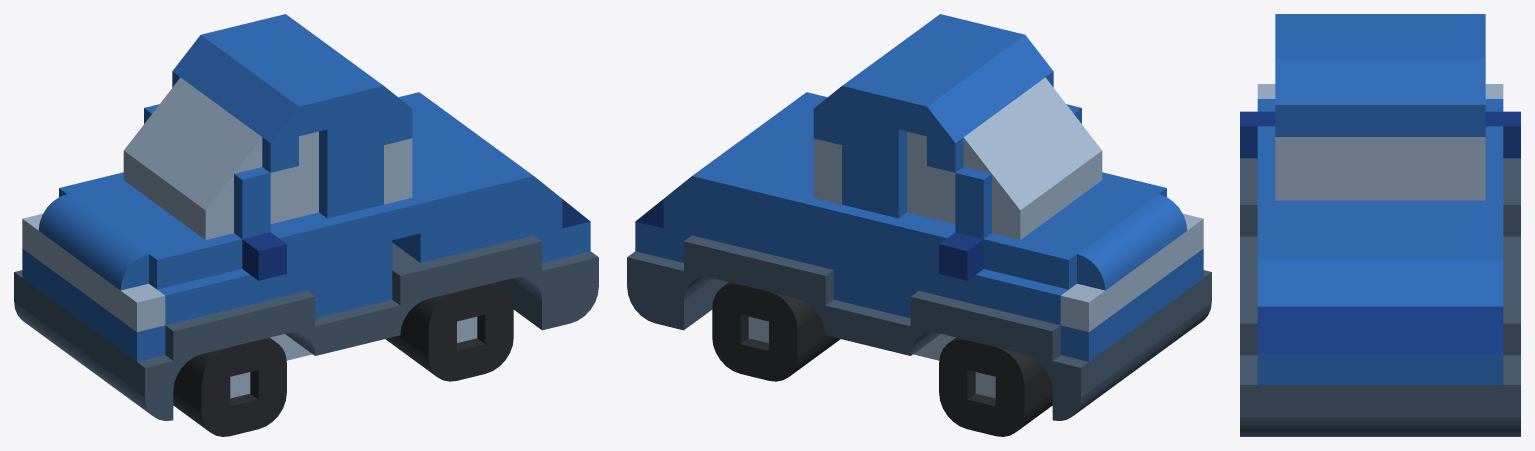
File: truck.fbx
3 views of the same model, side by side, from view 1: azimuth 30°, elevation 25°; view 2: azimuth 150°, elevation 25°; view 3: azimuth 270°, elevation 25° (orthographic). The views are drawn at different scales.
Visible parts, largest first — view 1: shape0 (×77), shape1 (×3), shape2 (×11); view 2: shape0 (×78), shape1 (×3), shape2 (×11); view 3: shape0 (×30), shape1 (×3), shape2.
Boxes of the visible parts, x1,y1,x2,y2 form: shape0 (×77): (14,14,598,435); shape1 (×3): (124,35,298,210); shape2 (×11): (14,194,598,436); shape0 (×78): (627,14,1211,435); shape1 (×3): (927,35,1101,210); shape2 (×11): (627,194,1211,436); shape0 (×30): (1240,14,1520,416); shape1 (×3): (1257,58,1503,353); shape2: (1240,417,1520,436).
Bounding box in the file's own units: 160 × 100 × 80.
Materials: 1 (1 with a texture image).
